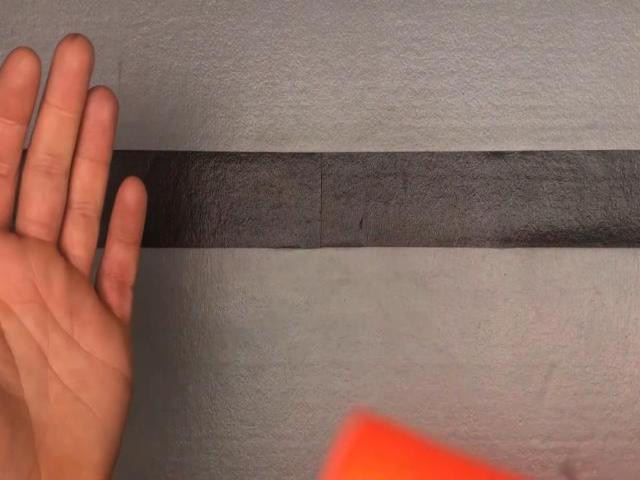hammer: (318, 410, 556, 480)
